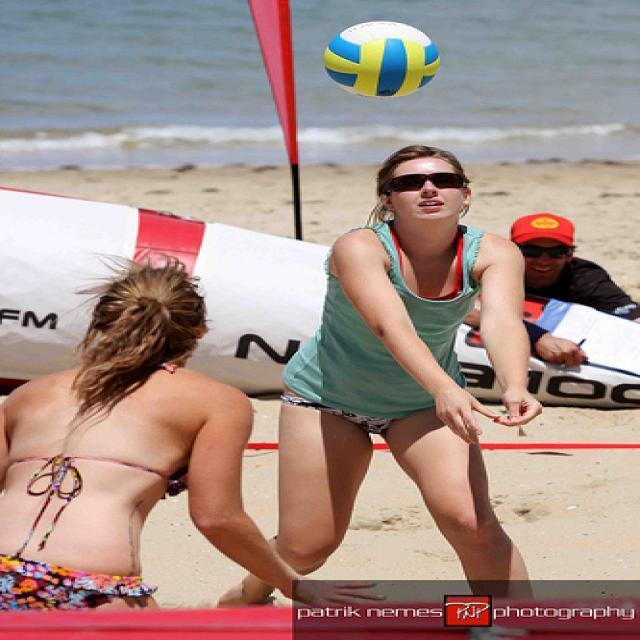volleyball: (322, 20, 441, 100)
